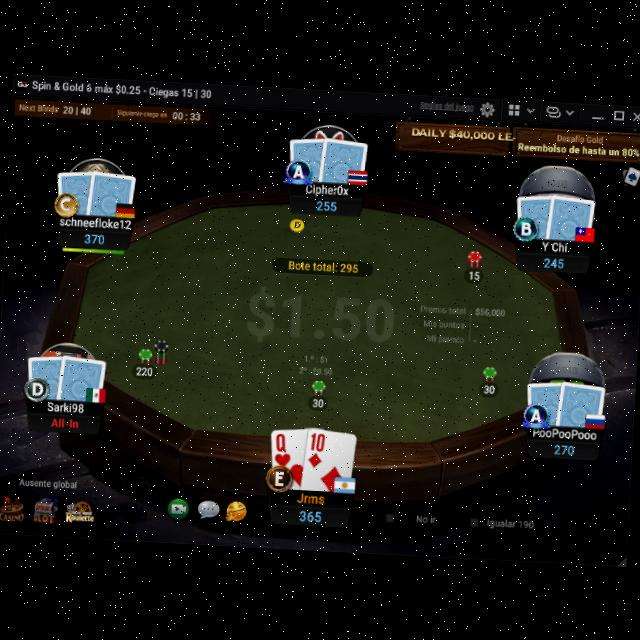Kd: (272, 431, 294, 466)
all_in_symbol: (50, 414, 81, 428)
bet_text: (134, 363, 154, 375), (310, 394, 326, 406), (482, 381, 497, 393), (469, 268, 482, 278)
card_back: (554, 376, 608, 432), (316, 132, 371, 186), (544, 188, 598, 242), (55, 350, 108, 403), (85, 165, 138, 218), (514, 189, 562, 240), (54, 165, 100, 215), (25, 350, 71, 400), (286, 132, 331, 182), (524, 375, 568, 425)
dealer: (288, 214, 306, 232)
pot_text: (286, 255, 362, 273)
stack_text: (298, 503, 324, 521), (542, 252, 566, 268), (84, 228, 106, 244), (315, 196, 339, 210), (552, 440, 576, 454)
